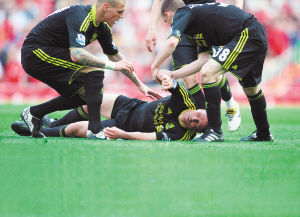fall: (11, 72, 217, 145)
